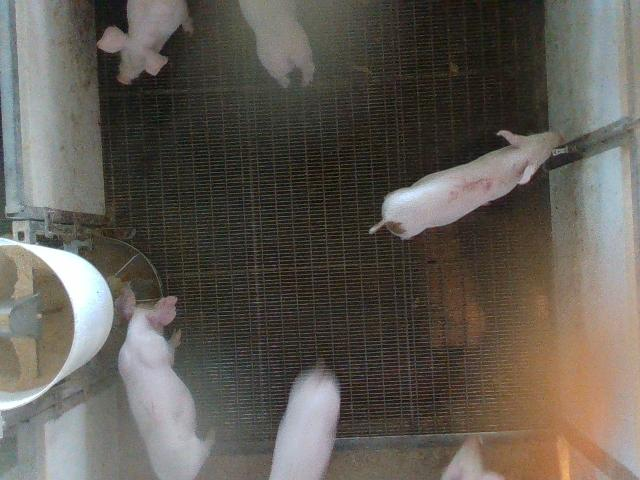pig-5: (370, 130, 562, 239)
